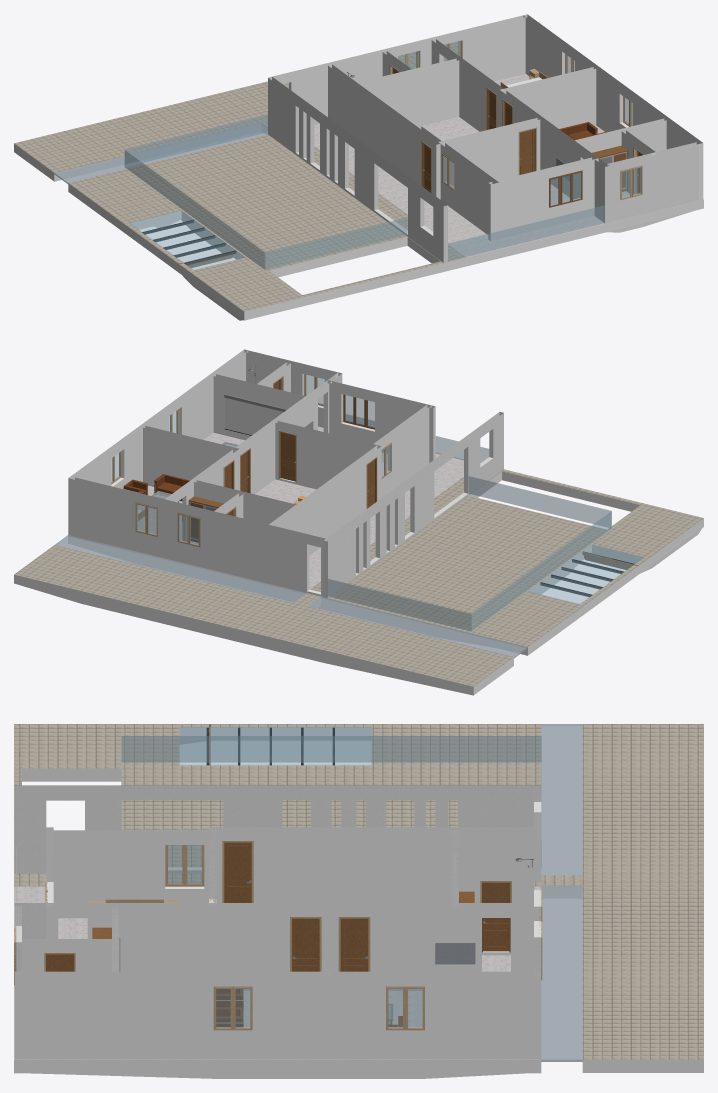
The model's file is house-first-floor.glb.
3 renders of one model, top to bottom at view 1: azimuth 30°, elevation 25°; view 2: azimuth 150°, elevation 25°; view 3: azimuth 270°, elevation 25°, orthographic. The views are drawn at different scales.
Parts seen in each view (by area): view 1: Villa Floor 1; view 2: Villa Floor 1; view 3: Villa Floor 1.
Part boxes in pixels (x1,y1,x2,y2): Villa Floor 1: (14,14,703,320); Villa Floor 1: (14,349,703,695); Villa Floor 1: (14,724,703,1078).
Bounding box in the file's own units: 52.34 × 7.95 × 45.41.
Materials: 24 (11 with a texture image).
